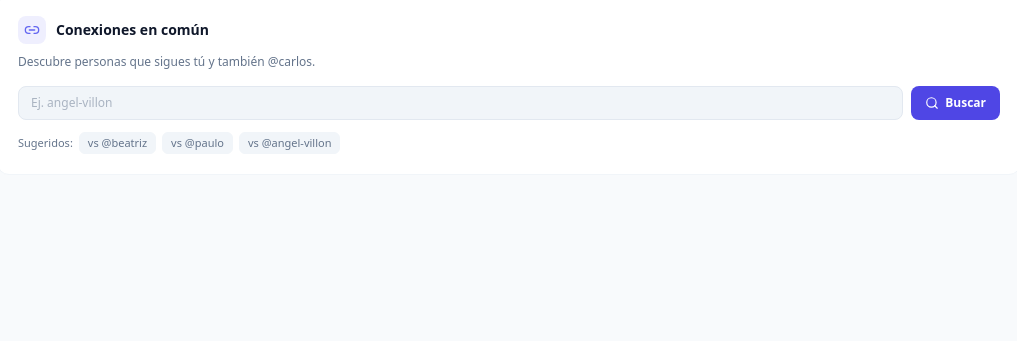
Test: ConexionesComunesPanel › Lista con resultados › muestra una fila por cada conexión en común
Type "angel-villon" into the field named "Identificador de la otra persona". click: x=461, y=102
box: [18, 86, 903, 120]
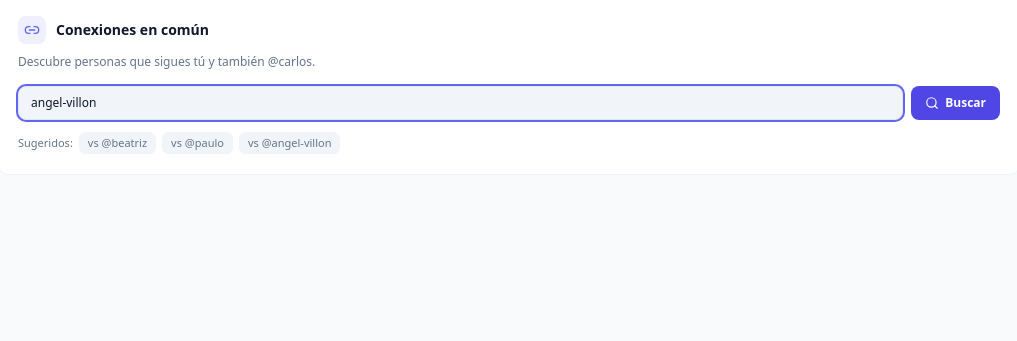
Click the button "Buscar". click: x=956, y=102
box: [911, 86, 1000, 120]
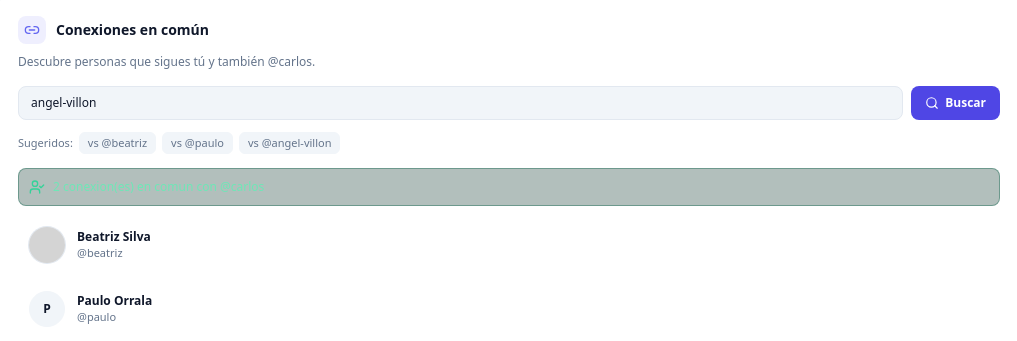
Expected: the text "Beatriz Silva" is shown, [77, 228, 151, 245]
Expected: the text "Paulo Orrala" is shown, [77, 292, 152, 309]
Expected: the text "@beatriz" is shown, [77, 245, 123, 260]
